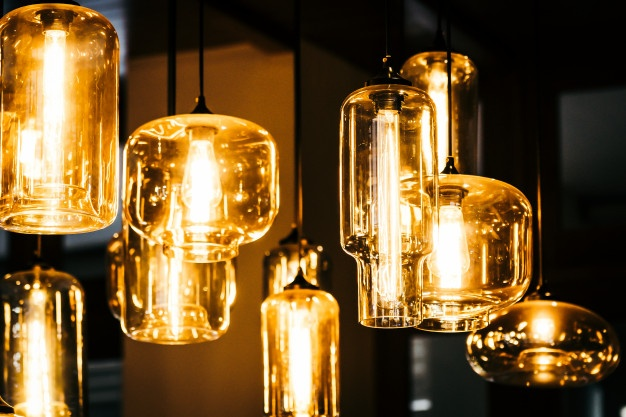bulb: (1, 3, 119, 234), (367, 100, 408, 306), (16, 282, 70, 417), (283, 303, 328, 417), (183, 134, 239, 221), (427, 195, 474, 294), (423, 64, 455, 175)
